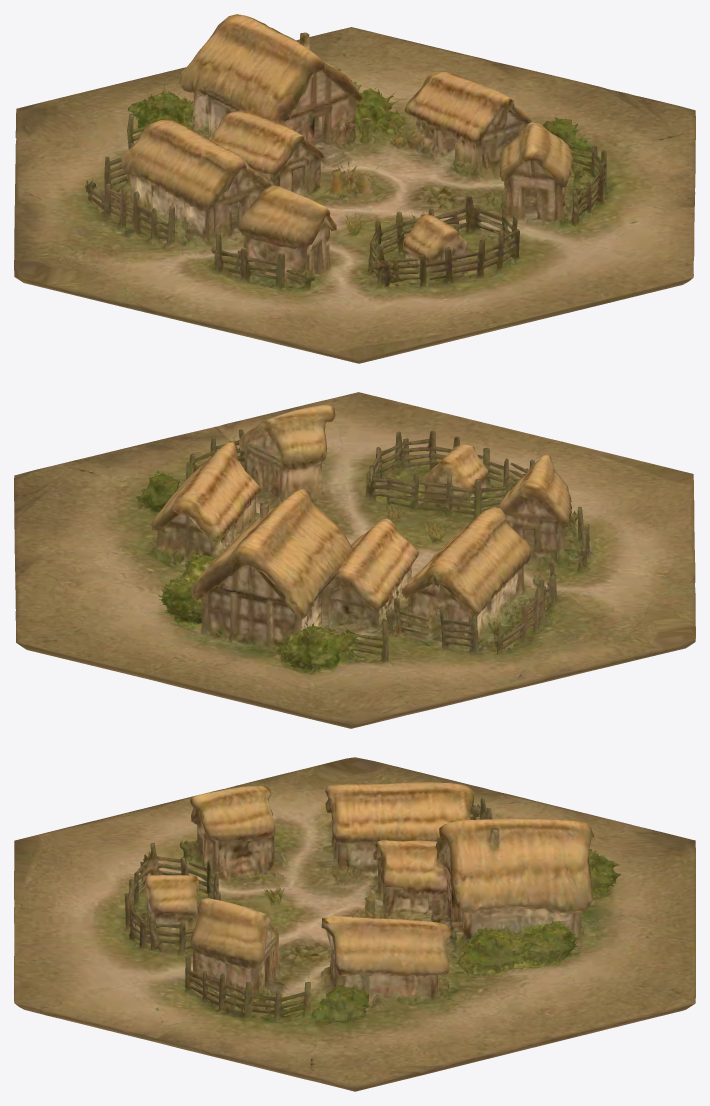
Rendered from rome-l1.glb.
The picture shows the model from 3 angles, top to bottom: view 1: azimuth 30°, elevation 25°; view 2: azimuth 150°, elevation 25°; view 3: azimuth 270°, elevation 25°; orthographic projection.
Bounding box in the file's own units: 1.9 × 0.3021 × 1.65.
1 material, 1 textured.
